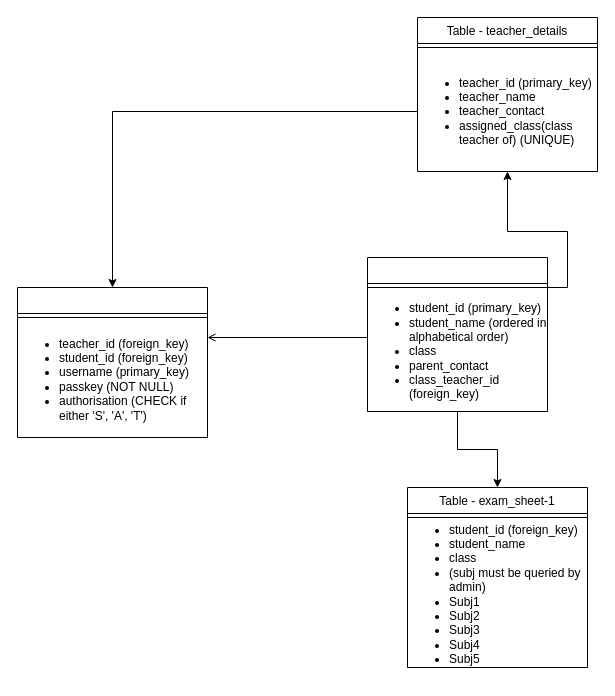
The diagram is 615 pixels wide and 696 high, and some of its shapes have lost their labels. Here are the shapes that lost their labels. From the top down, the box of each, then its label:
(366, 256, 548, 412): Table - student_details
(16, 286, 208, 438): Table - credentials
